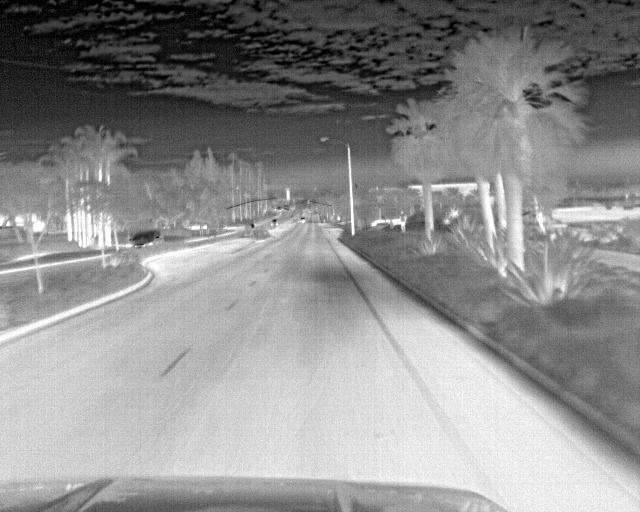car: (126, 229, 162, 249)
